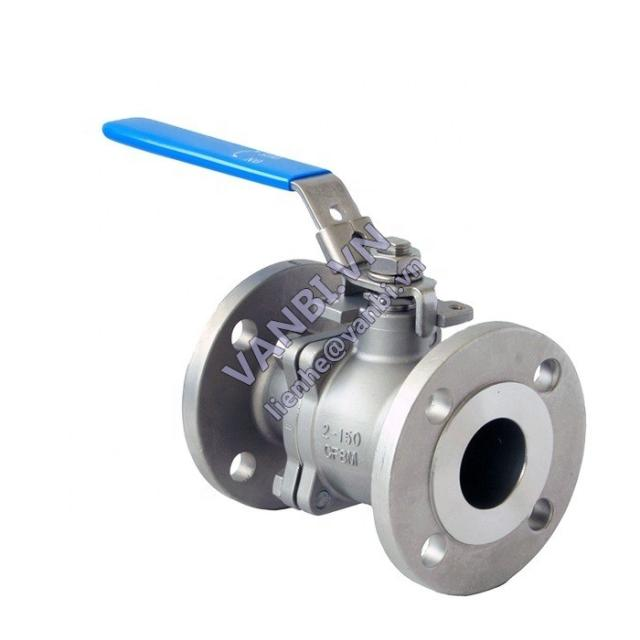Lever Handle Valve Threaded: (89, 92, 482, 348)
